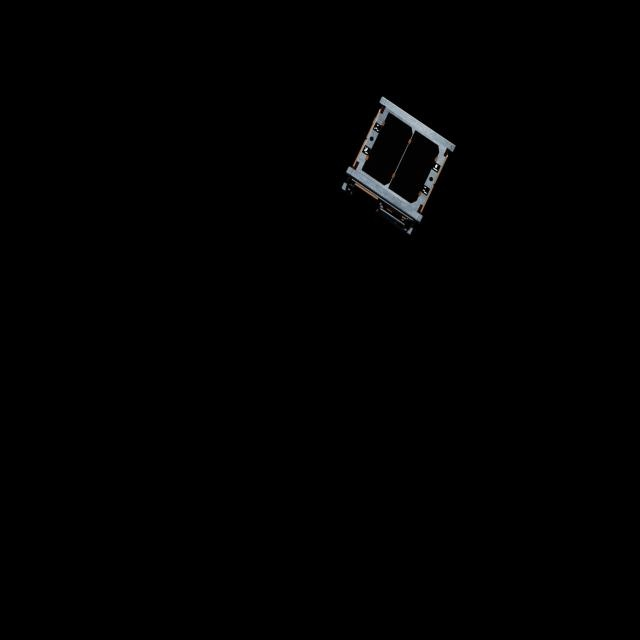medium_debris: (342, 102, 455, 230)
